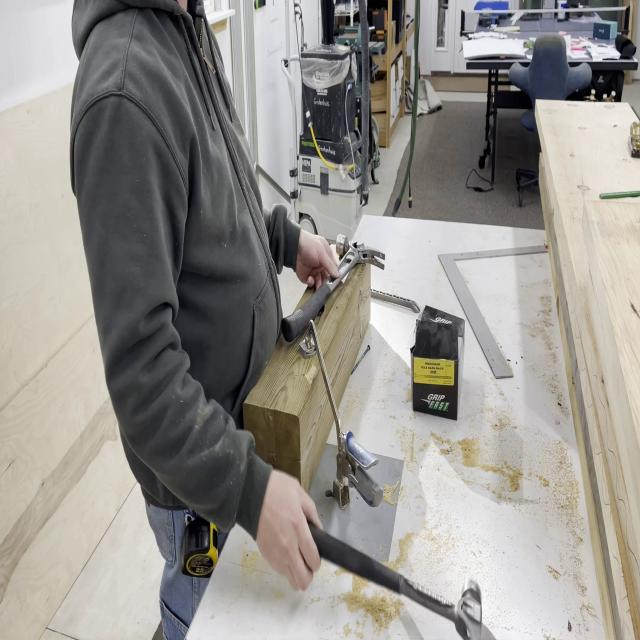hammer: (281, 235, 385, 342)
